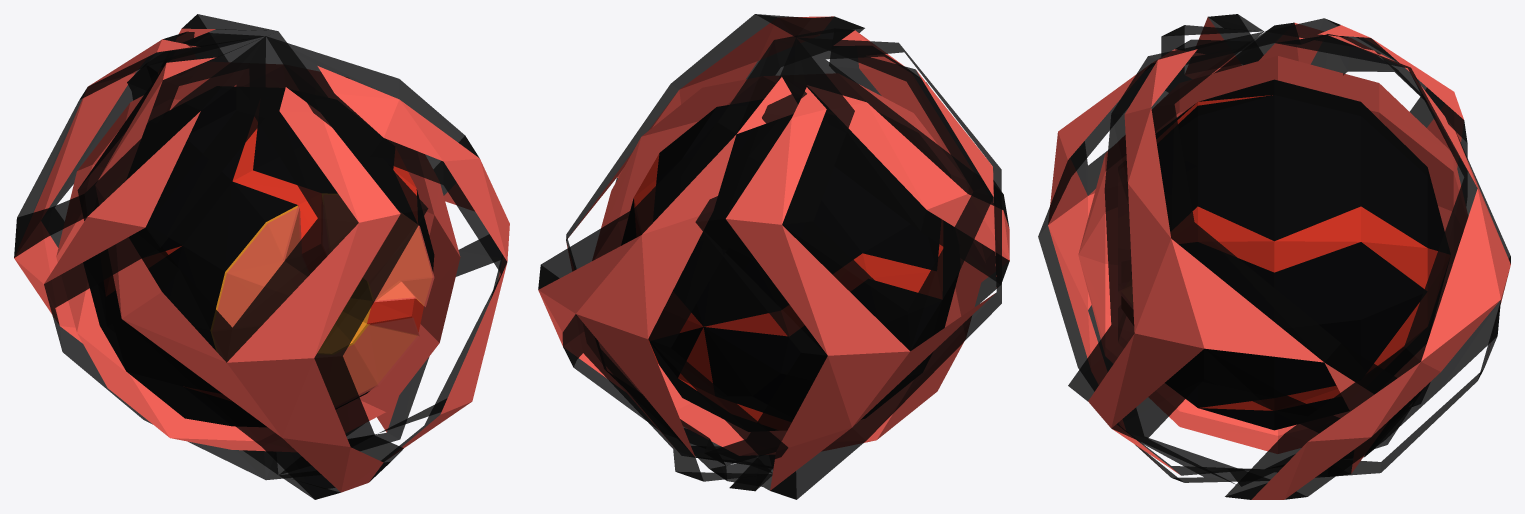
File: zuk_projectile.glb
3 renders of one model, left to right at view 1: azimuth 30°, elevation 25°; view 2: azimuth 150°, elevation 25°; view 3: azimuth 270°, elevation 25°, orthographic. The views are drawn at different scales.
Bounding box in the file's own units: 146 × 146 × 142.
Materials: 2 (2 with a texture image).
